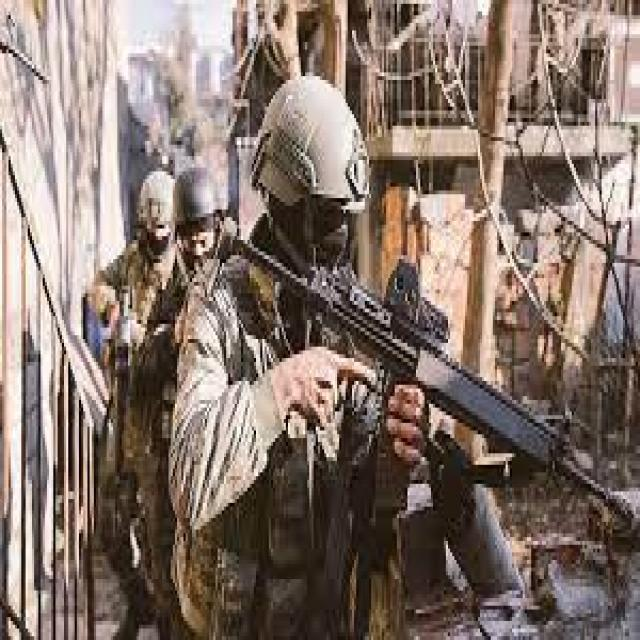m16: (215, 197, 639, 587)
